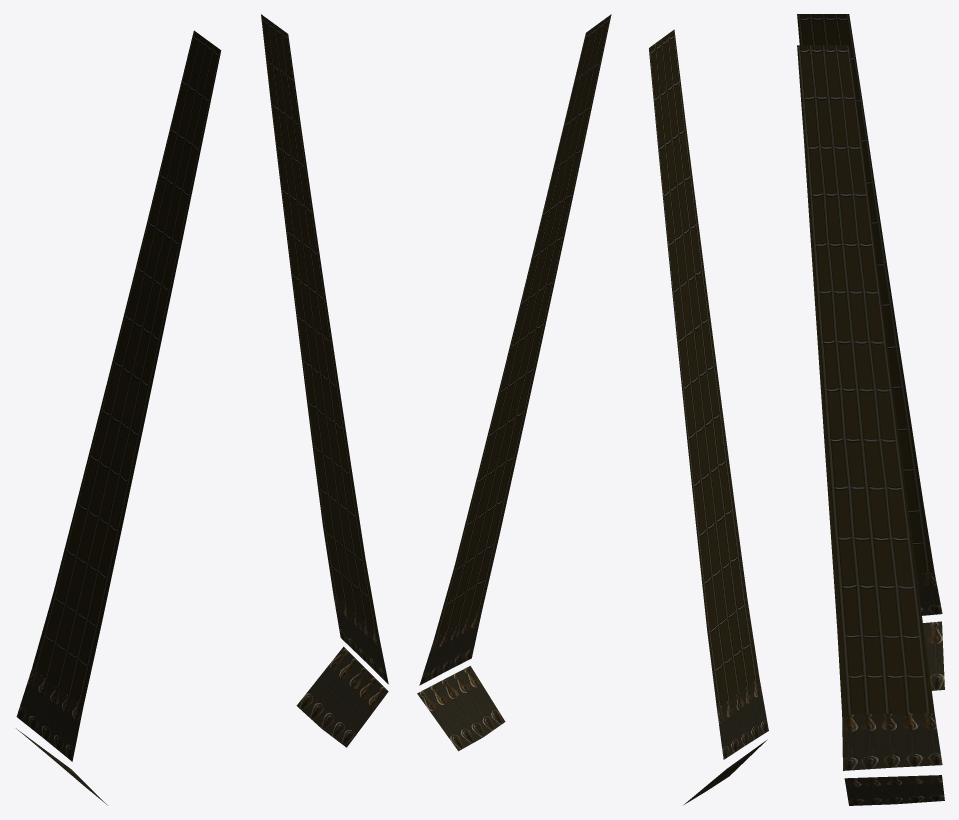
File: interceptorL1-rigging_0.fbx
3 renders of one model, left to right at view 1: azimuth 30°, elevation 25°; view 2: azimuth 150°, elevation 25°; view 3: azimuth 270°, elevation 25°, orthographic. The views are drawn at different scales.
Visible parts, largest first — view 1: ladder_1_right, ladder_1_left, pulleys_01_left, pullys_2_right, pullys_2_left; view 2: ladder_1_right, ladder_1_left, pulleys_01_left, pullys_2_right, pullys_2_left; view 3: ladder_1_left, ladder_1_right, pullys_2_left, pulleys_01_left, pulleys_01_right, pullys_2_right.
Boxes of the visible parts, left/top/right/bottom form: ladder_1_right: left=32, top=30, right=221, bottom=705; ladder_1_left: left=261, top=14, right=378, bottom=633; pulleys_01_left: left=296, top=646, right=388, bottom=747; pullys_2_right: left=16, top=669, right=83, bottom=761; pullys_2_left: left=333, top=595, right=388, bottom=684; ladder_1_right: left=649, top=29, right=759, bottom=708; ladder_1_left: left=434, top=14, right=611, bottom=639; pulleys_01_left: left=417, top=666, right=505, bottom=751; pullys_2_right: left=717, top=678, right=768, bottom=759; pullys_2_left: left=419, top=610, right=482, bottom=685; ladder_1_left: left=797, top=45, right=934, bottom=714; ladder_1_right: left=797, top=14, right=934, bottom=573; pullys_2_left: left=842, top=713, right=942, bottom=770; pulleys_01_left: left=844, top=775, right=944, bottom=805; pulleys_01_right: left=923, top=621, right=944, bottom=690; pullys_2_right: left=916, top=573, right=942, bottom=615.
Size of the model in its own units: 4193 by 9176 by 1706.
1 material, 1 textured.
